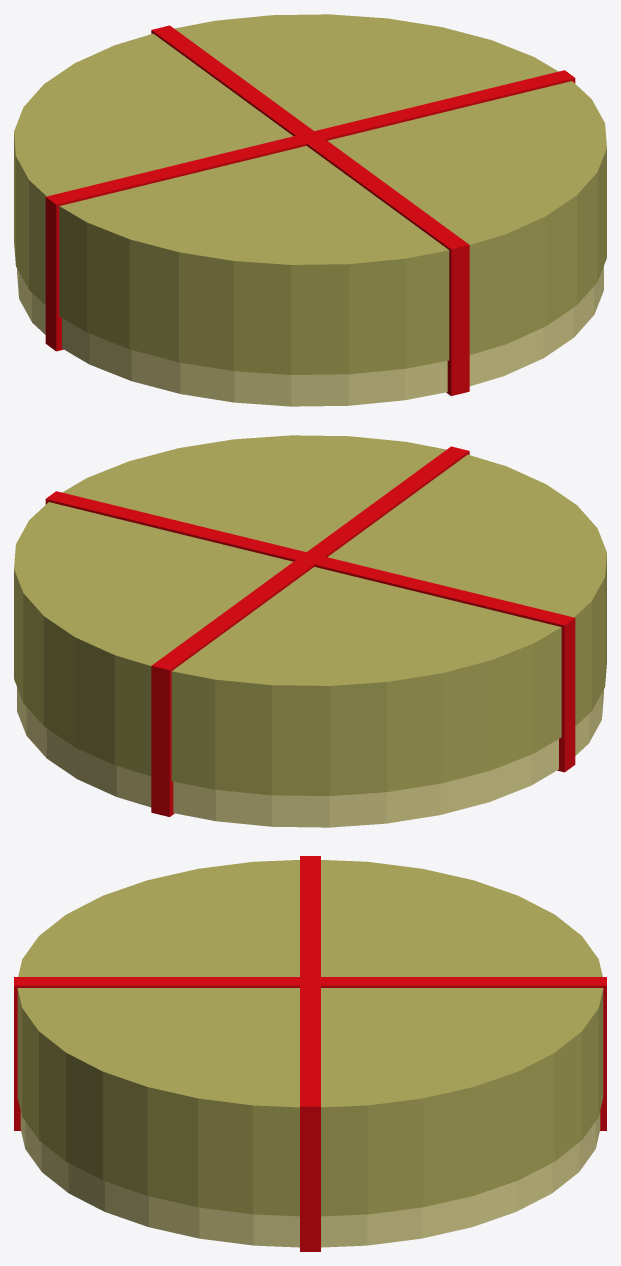
File: Cake.fbx
3 renders of one model, top to bottom at view 1: azimuth 30°, elevation 25°; view 2: azimuth 150°, elevation 25°; view 3: azimuth 270°, elevation 25°, orthographic.
Parts seen in each view (by area): view 1: Cylinder.001, Cylinder, Cube.001, Cube; view 2: Cylinder.001, Cylinder, Cube.001, Cube; view 3: Cylinder.001, Cylinder, Cube, Cube.001.
Boxes of the visible parts, x1=… form: Cylinder.001: x1=14, y1=14, x2=606, y2=374; Cylinder: x1=17, y1=266, x2=603, y2=406; Cube.001: x1=151, y1=25, x2=469, y2=395; Cube: x1=45, y1=70, x2=575, y2=351; Cylinder.001: x1=14, y1=435, x2=606, y2=795; Cylinder: x1=17, y1=687, x2=603, y2=827; Cube.001: x1=151, y1=446, x2=469, y2=816; Cube: x1=45, y1=491, x2=575, y2=772; Cylinder.001: x1=17, y1=860, x2=603, y2=1216; Cylinder: x1=20, y1=1111, x2=600, y2=1247; Cube: x1=300, y1=856, x2=320, y2=1251; Cube.001: x1=14, y1=977, x2=606, y2=1130.
Bounding box in the file's own units: 608 × 165 × 608.
